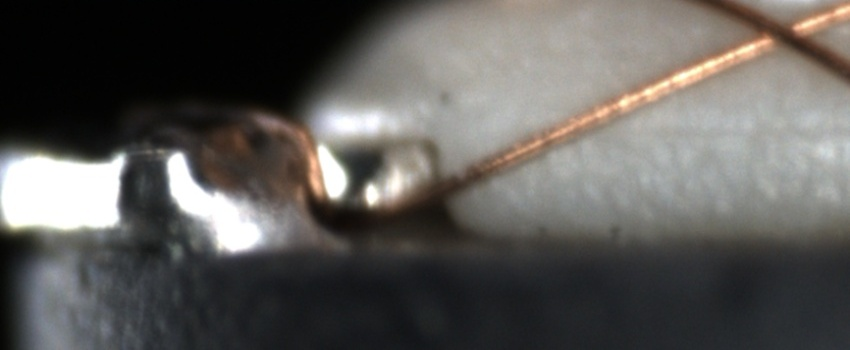CL: (726, 0, 827, 62)
DL: (591, 98, 850, 162)
TE: (233, 102, 339, 220)
